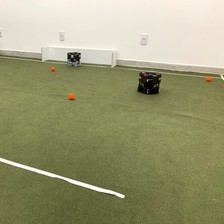ball: (65, 90, 77, 103), (201, 74, 211, 84), (47, 64, 57, 74)
goal: (39, 43, 118, 70)
robot: (132, 67, 163, 95), (64, 48, 82, 69)
